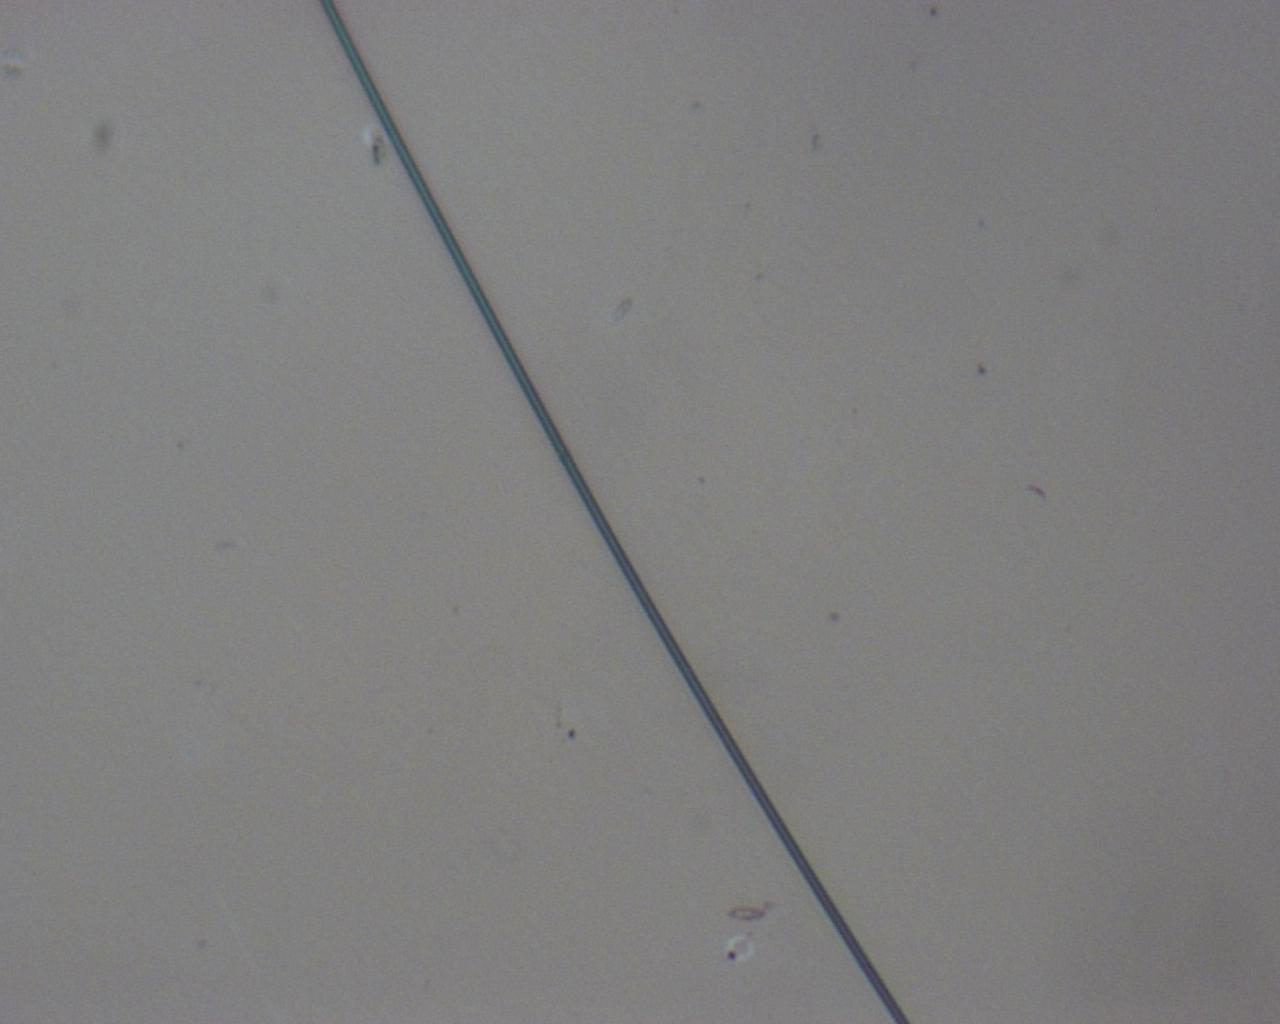fiber: (312, 0, 913, 1024)
